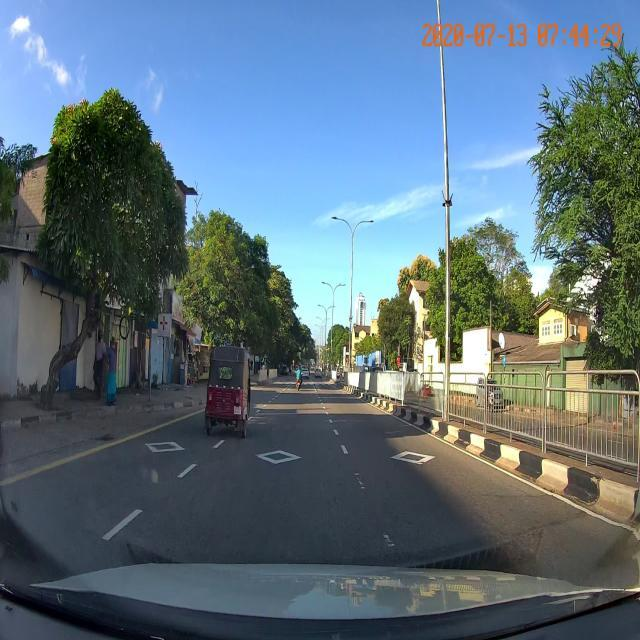diamond: (173, 440, 367, 477)
